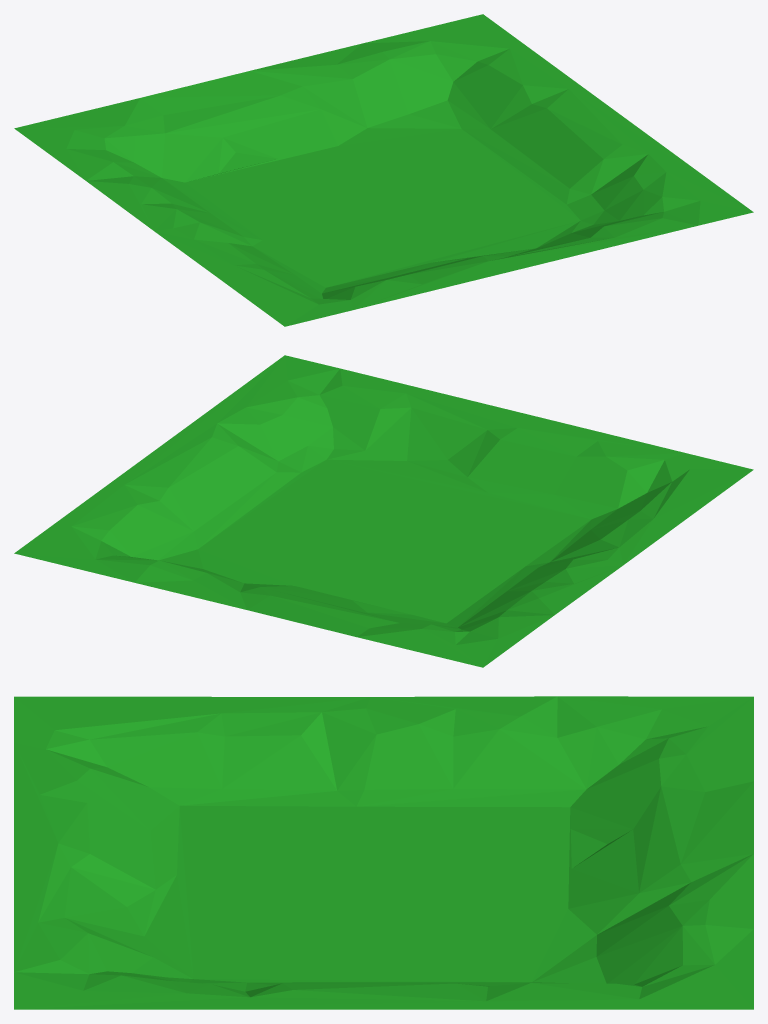
File: flat_center_terrain.fbx
The picture shows the model from 3 angles, top to bottom: view 1: azimuth 30°, elevation 25°; view 2: azimuth 150°, elevation 25°; view 3: azimuth 270°, elevation 25°; orthographic projection. The views are drawn at different scales.
Parts seen in each view (by area): view 1: Plane; view 2: Plane; view 3: Plane.
Part boxes in pixels (<box>): Plane: <box>14,14,753,326</box>; Plane: <box>14,355,753,667</box>; Plane: <box>14,696,753,1009</box>.
Size of the model in its own units: 3000 by 210 by 3000.
